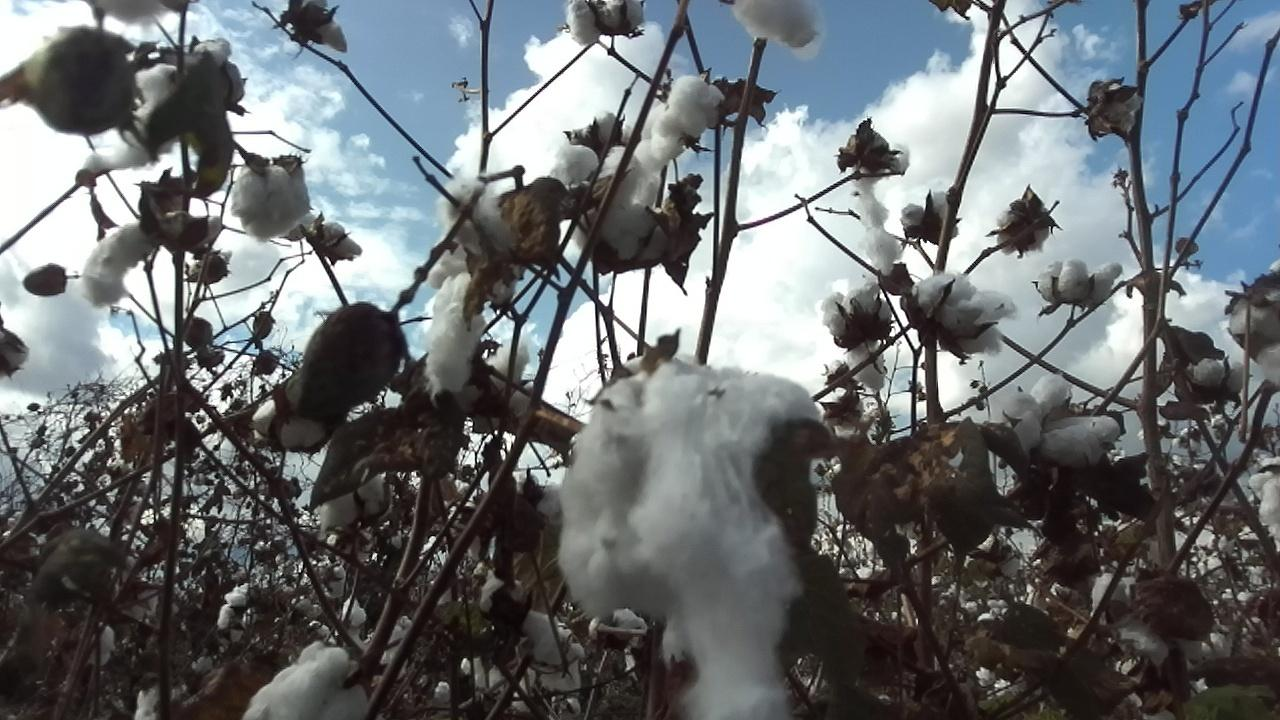cotton_ready: (560, 359, 825, 720), (79, 38, 231, 175), (422, 171, 507, 396), (550, 110, 667, 243), (77, 213, 223, 307), (1095, 571, 1230, 667), (483, 577, 588, 695), (237, 637, 380, 720), (1001, 375, 1125, 467), (913, 271, 1017, 357), (851, 137, 912, 278), (819, 276, 894, 390), (640, 73, 728, 162), (1227, 260, 1280, 386), (232, 161, 313, 240), (728, 0, 827, 52), (320, 461, 387, 531), (1037, 260, 1123, 303), (568, 0, 648, 45), (1249, 452, 1280, 553), (902, 188, 962, 239), (297, 214, 363, 260), (1088, 82, 1146, 134), (998, 205, 1054, 256), (1180, 357, 1246, 397), (302, 0, 348, 52), (85, 0, 175, 25)
